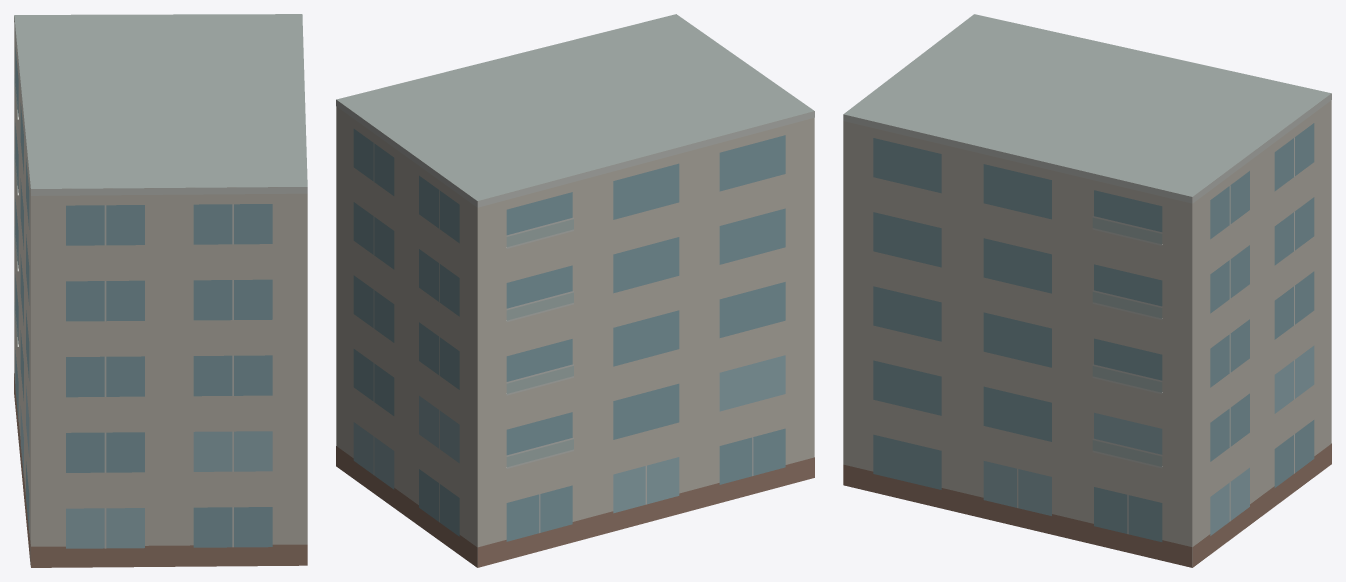
The model's file is survey-upis-32904911.glb.
3 renders of one model, left to right at view 1: azimuth 30°, elevation 25°; view 2: azimuth 150°, elevation 25°; view 3: azimuth 270°, elevation 25°, orthographic. The views are drawn at different scales.
Visible parts, largest first — view 1: survey-upis-32904911.tmp; view 2: survey-upis-32904911.tmp; view 3: survey-upis-32904911.tmp.
Part boxes in pixels (<box>): survey-upis-32904911.tmp: <box>14,14,307,567</box>; survey-upis-32904911.tmp: <box>336,14,814,567</box>; survey-upis-32904911.tmp: <box>843,14,1331,567</box>.
Size of the model in its own units: 14.29 by 13.5 by 16.12.
